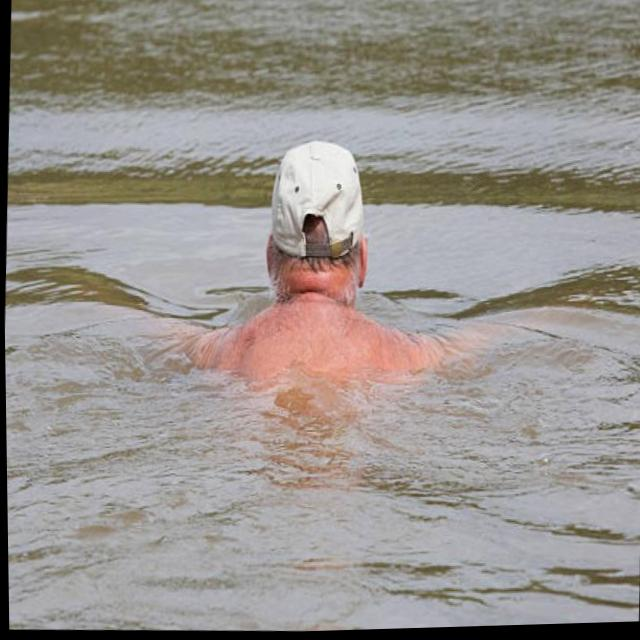no helmet: (258, 140, 373, 304)
